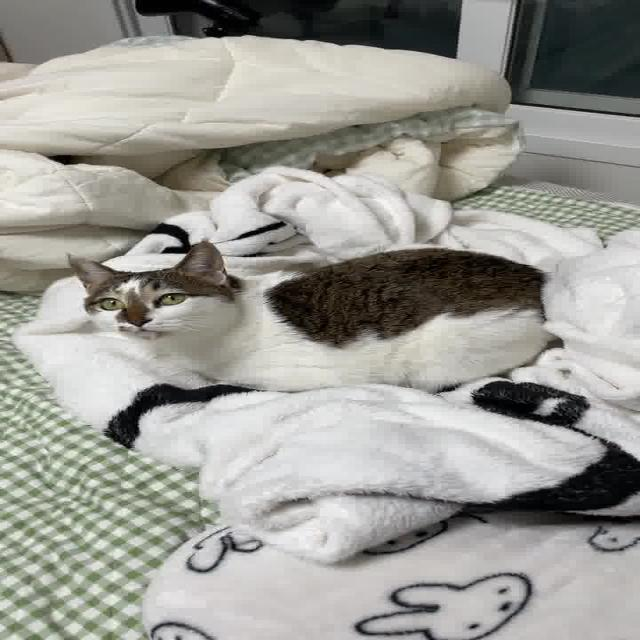cat: (48, 236, 604, 406)
